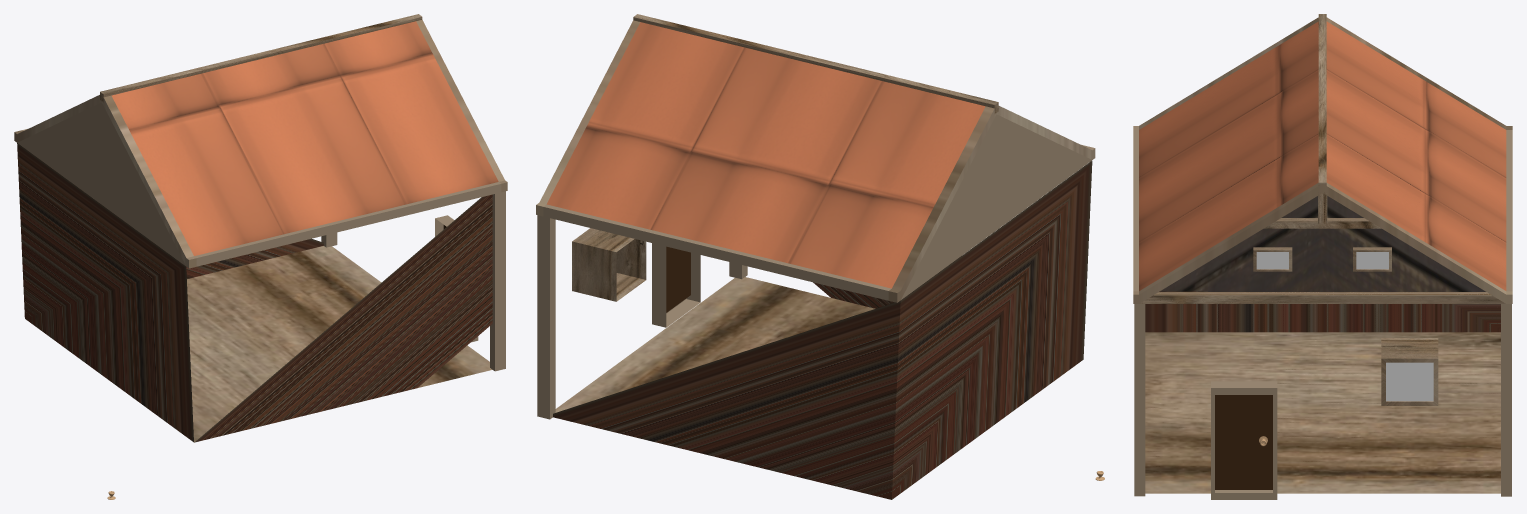
File: small_house (2).fbx
The picture shows the model from 3 angles, left to right: view 1: azimuth 30°, elevation 25°; view 2: azimuth 150°, elevation 25°; view 3: azimuth 270°, elevation 25°; orthographic projection. The views are drawn at different scales.
Visible parts, largest first — view 1: Cube.001, Cube.002; view 2: Cube.001, Cube.002; view 3: Cube.001, Cube.002.
Boxes of the visible parts, box(x1,y1,x2,y2) form: Cube.001: box(14, 14, 507, 442); Cube.002: box(17, 143, 492, 442); Cube.001: box(536, 14, 1095, 419); Cube.002: box(553, 161, 1092, 499); Cube.001: box(1133, 14, 1512, 499); Cube.002: box(1146, 291, 1500, 332).
Size of what is drawn, in the model's own units: 408 by 378 by 334.
